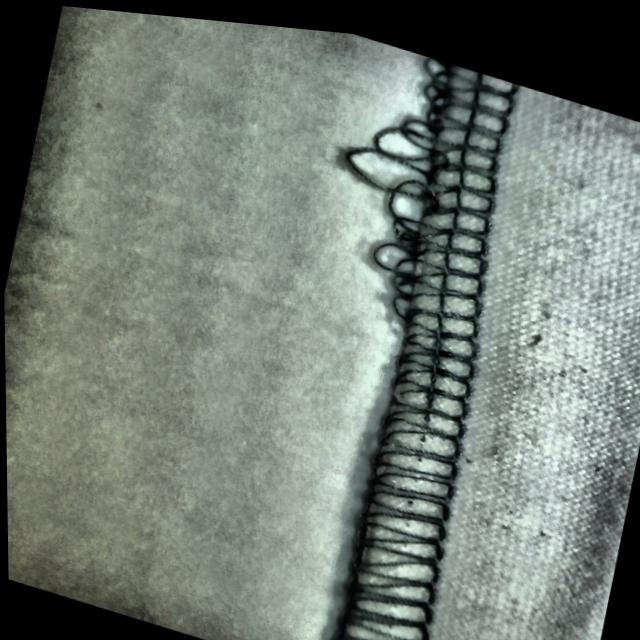Stitch: (314, 28, 527, 337)
